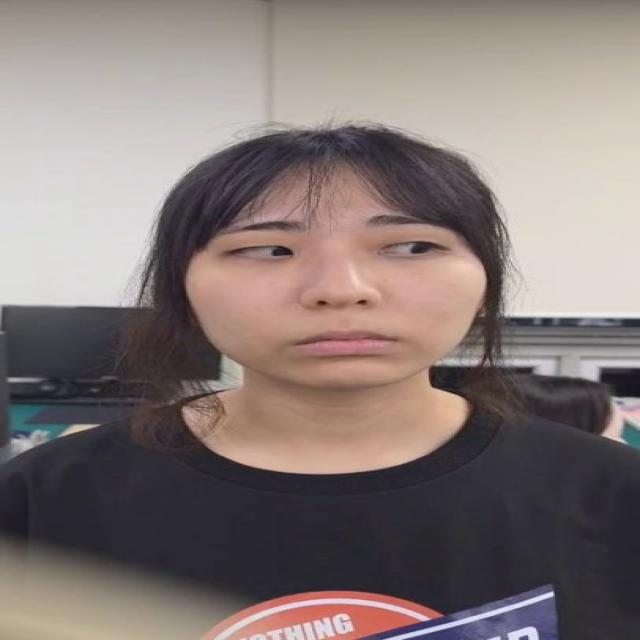eyes: (213, 232, 465, 268)
face: (181, 130, 494, 388)
iris_left: (407, 238, 448, 261), (265, 238, 298, 260)
